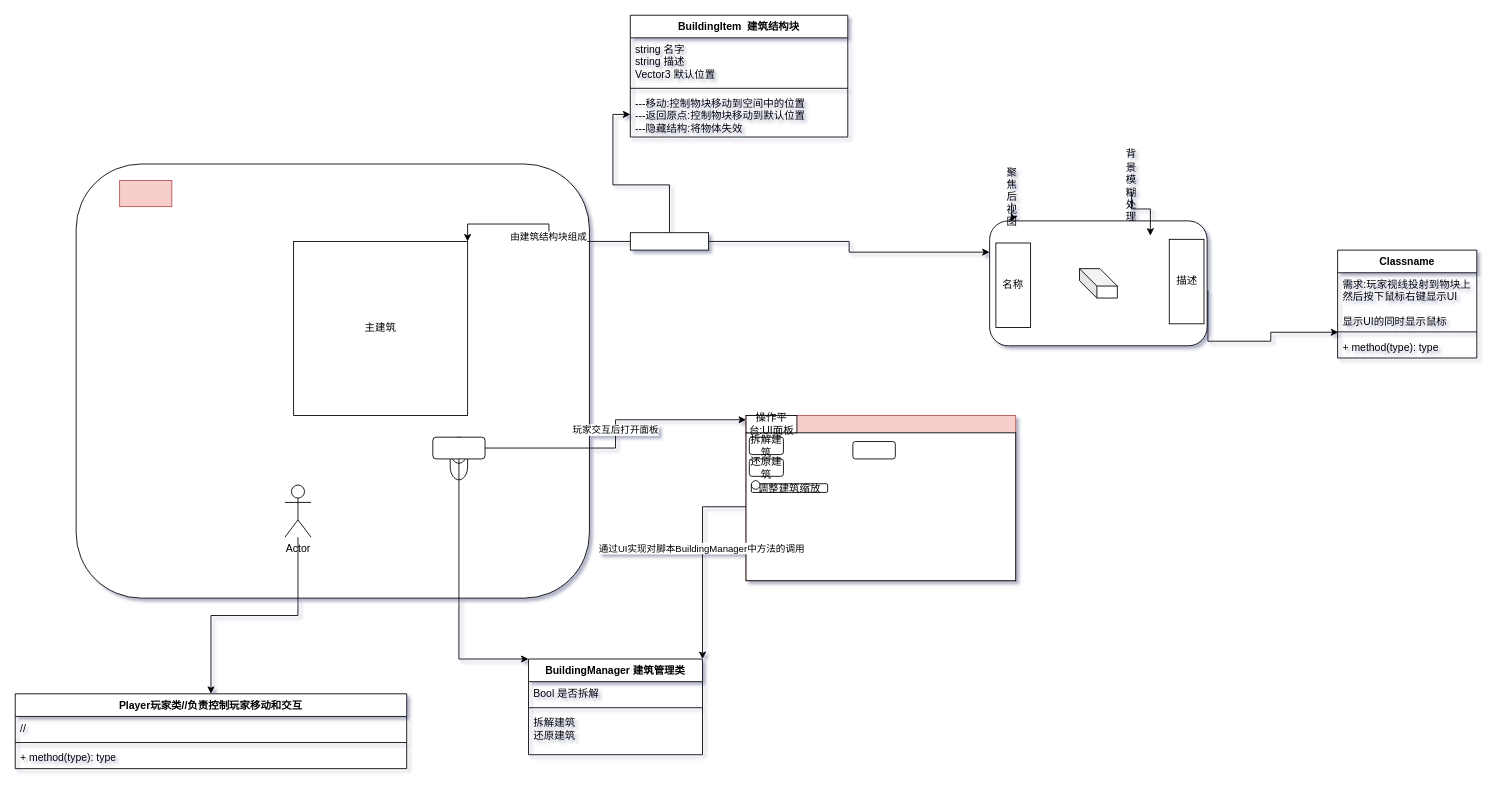
This 1497x792 diagram has some shape labels left out. Each missing label, with the centre of its shape:
启动飞行模式: the point at 873,450
建筑的某个结构块: the point at 1098,283
建筑结构块: the point at 669,241
操作平台: the point at 458,447
游戏场景: the point at 145,193
